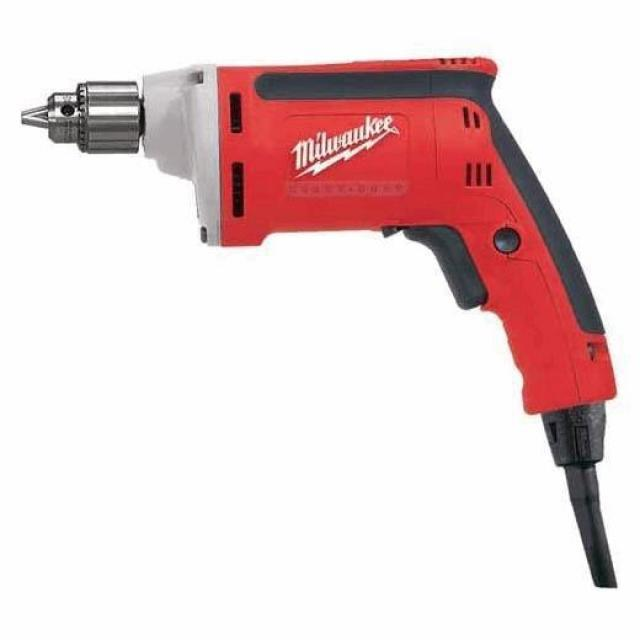drill: (20, 56, 618, 589)
